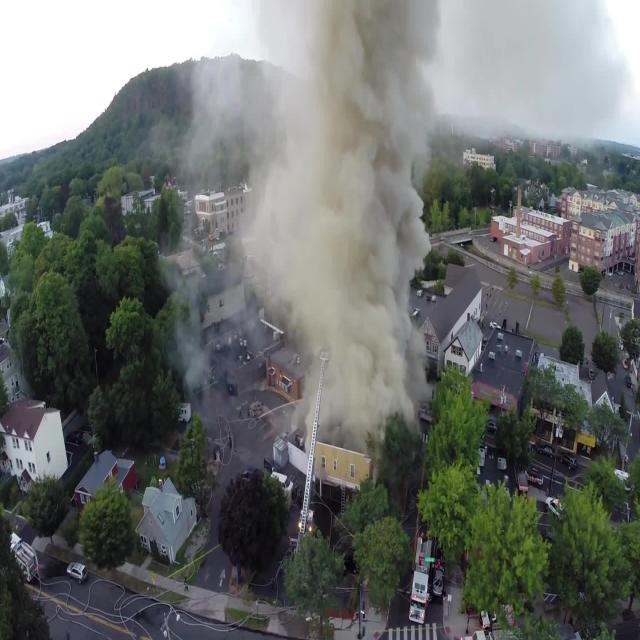Smoke: (237, 0, 449, 497)
